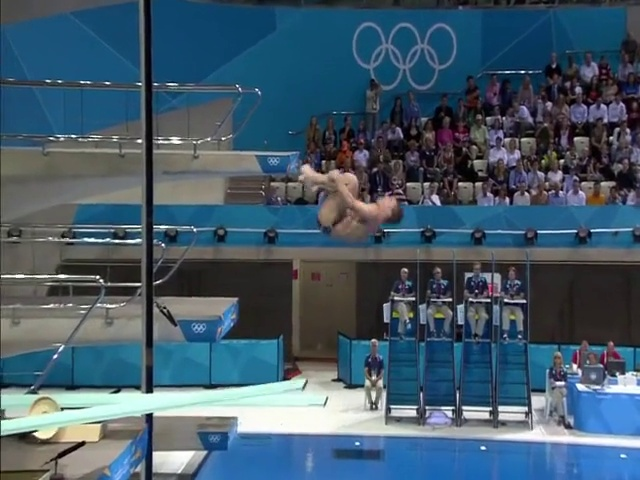diver: (297, 163, 404, 243)
